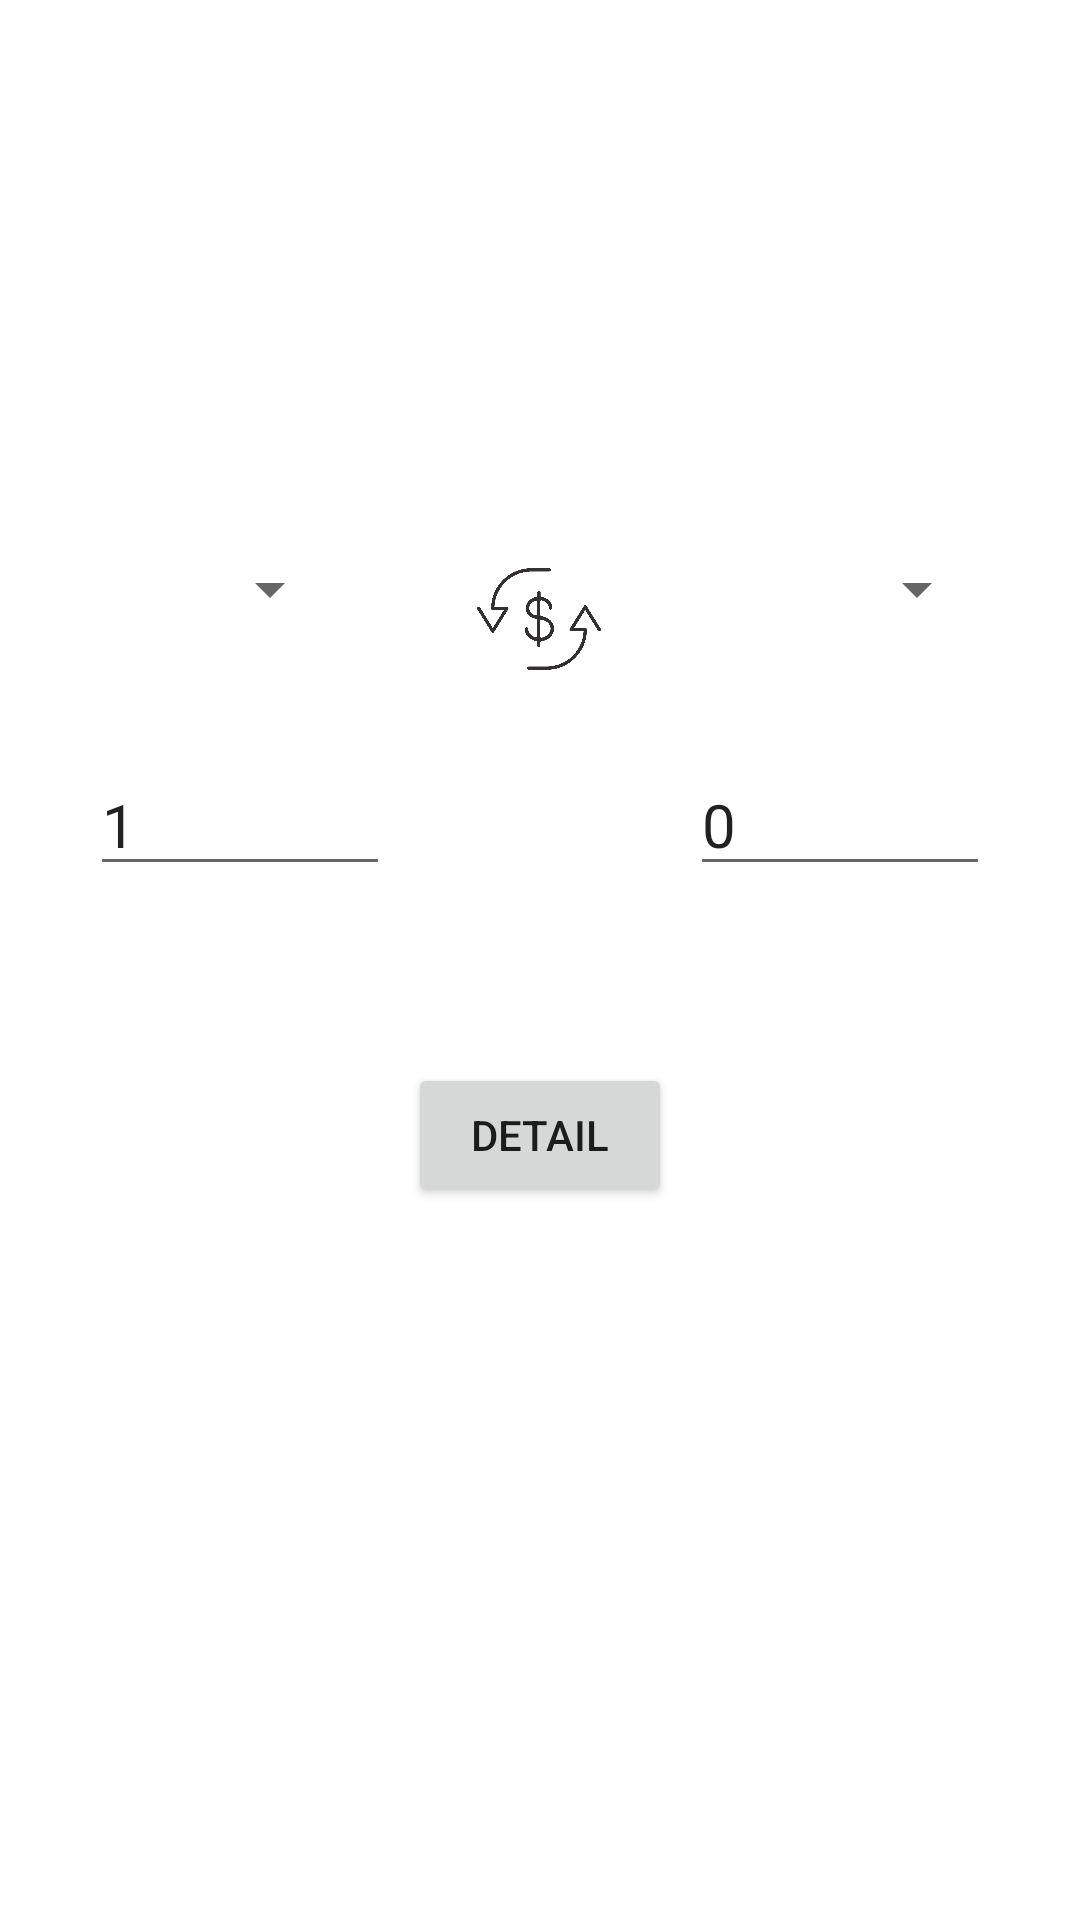

Point at icon controls on the screen. Image size 1080*1920, points as [x,y].
currency exchange: [539,619]
